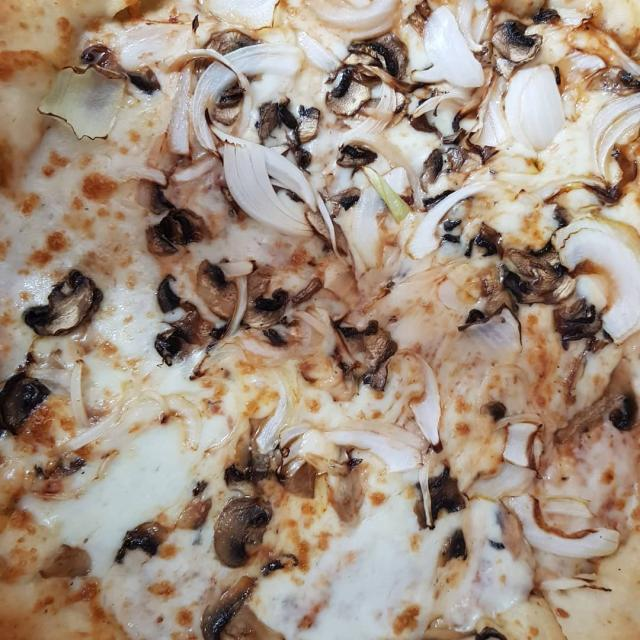mushrooms: (24, 270, 102, 336), (214, 497, 271, 568), (504, 248, 576, 304), (202, 576, 256, 640), (146, 209, 210, 255), (362, 328, 398, 391), (492, 21, 542, 64), (554, 299, 601, 342), (429, 466, 465, 520), (326, 80, 372, 116), (587, 66, 640, 95), (210, 84, 244, 125), (205, 30, 259, 55), (35, 454, 85, 478), (154, 328, 185, 366), (126, 66, 162, 94), (472, 223, 502, 256), (420, 149, 444, 189), (156, 275, 180, 313), (256, 102, 279, 140), (298, 105, 320, 143), (277, 100, 299, 130), (415, 499, 426, 528)
pizza: (0, 0, 640, 640)
